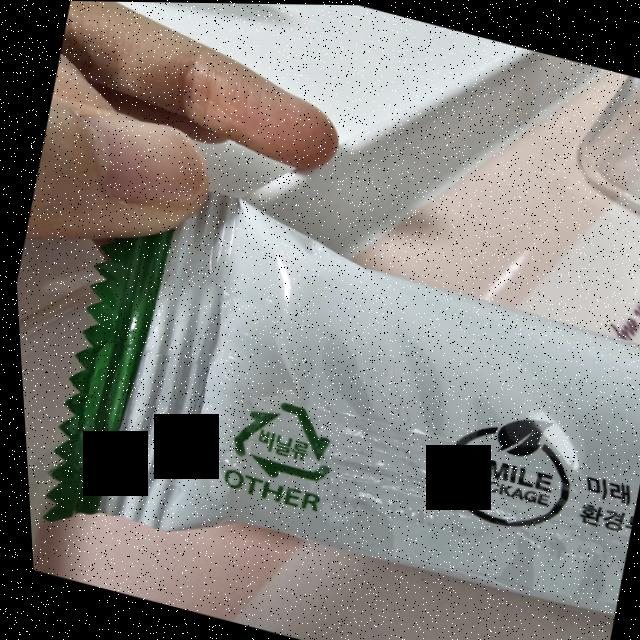Vinyl: (214, 385, 343, 492)
